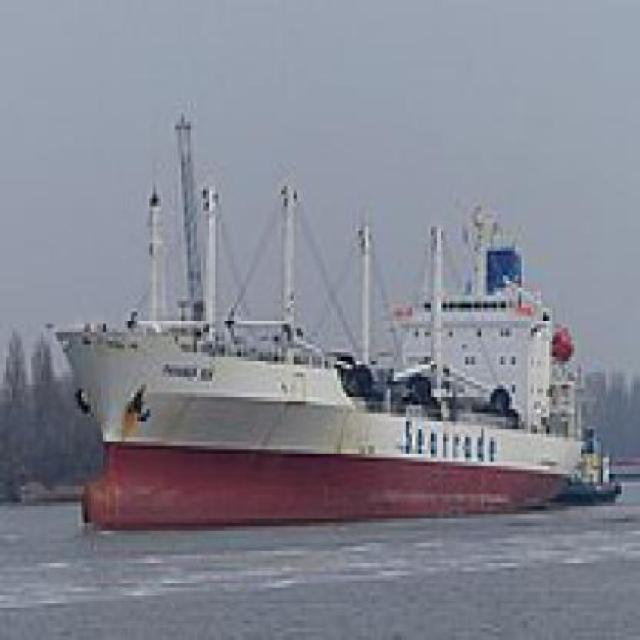container: (45, 175, 588, 544)
